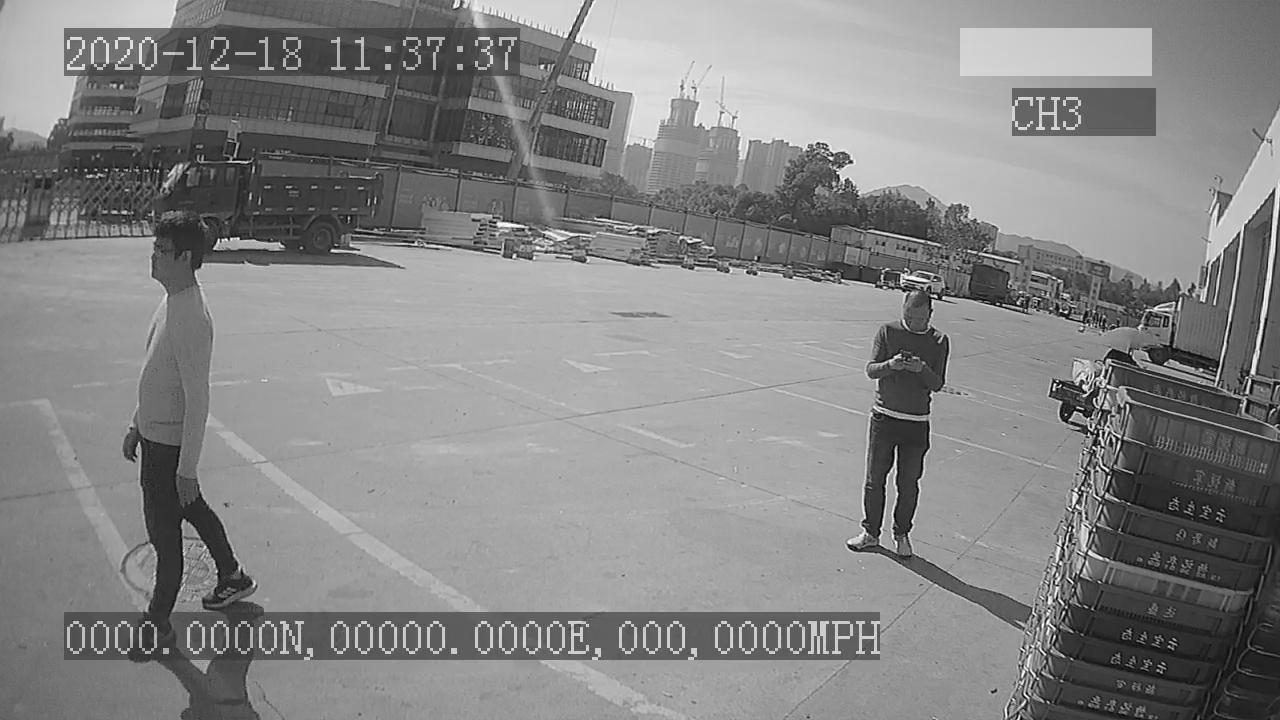person: (845, 288, 954, 563)
